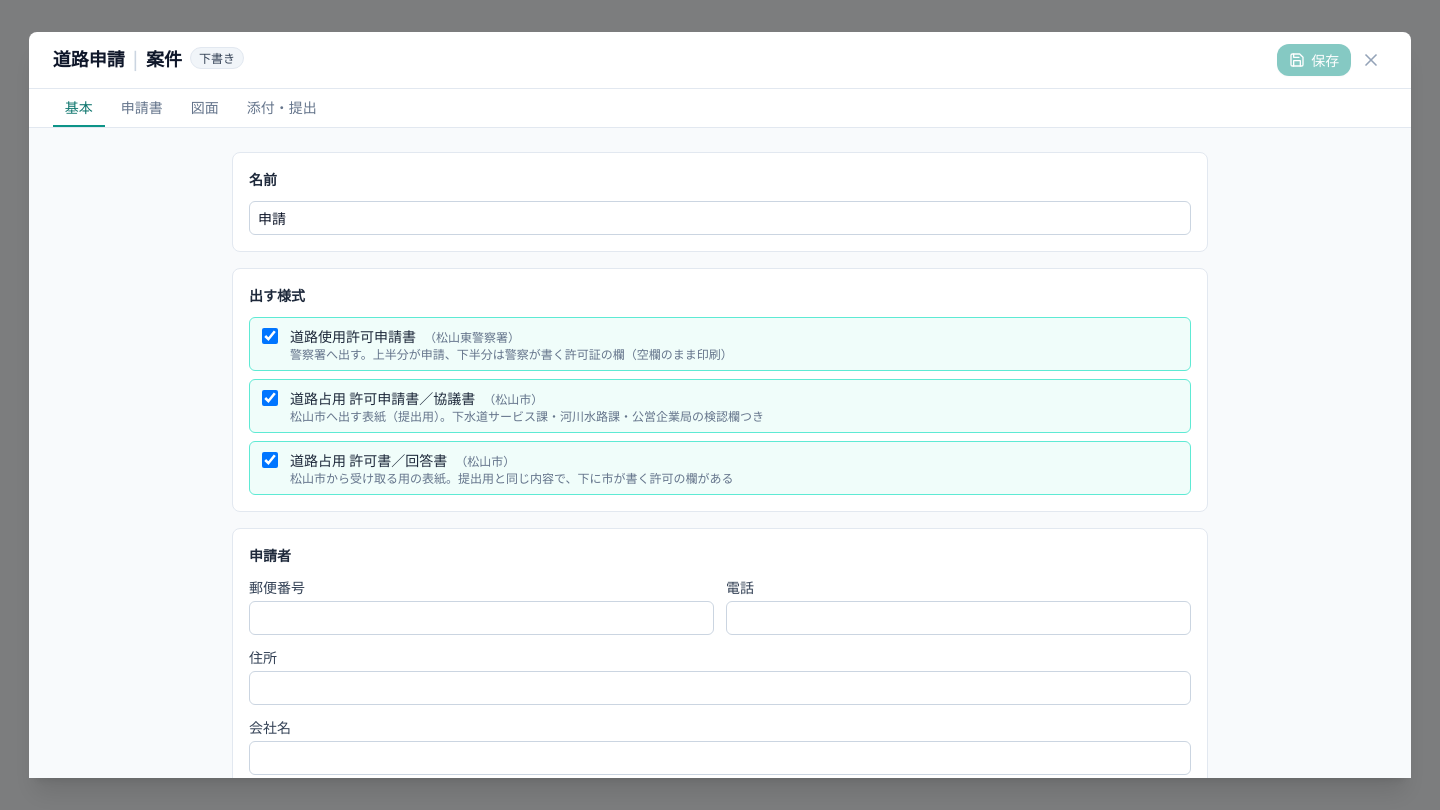
Test: 消す › 確認して DELETE し、戻った一覧にする
Click the button "添付・提出".
click(282, 108)  # box [235,89,329,127]
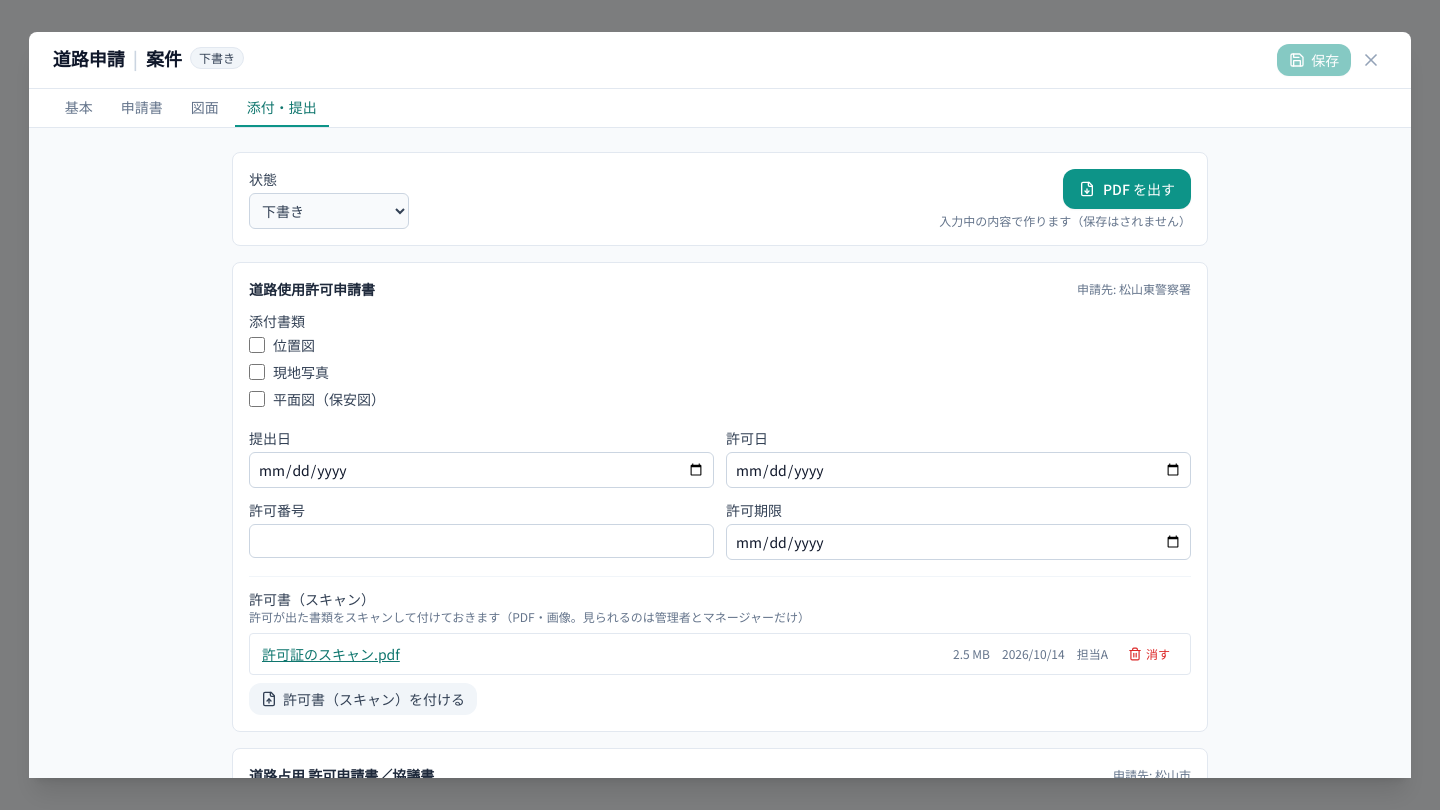
Click the button "消す".
click(1149, 654)  # box [1120,642,1178,666]
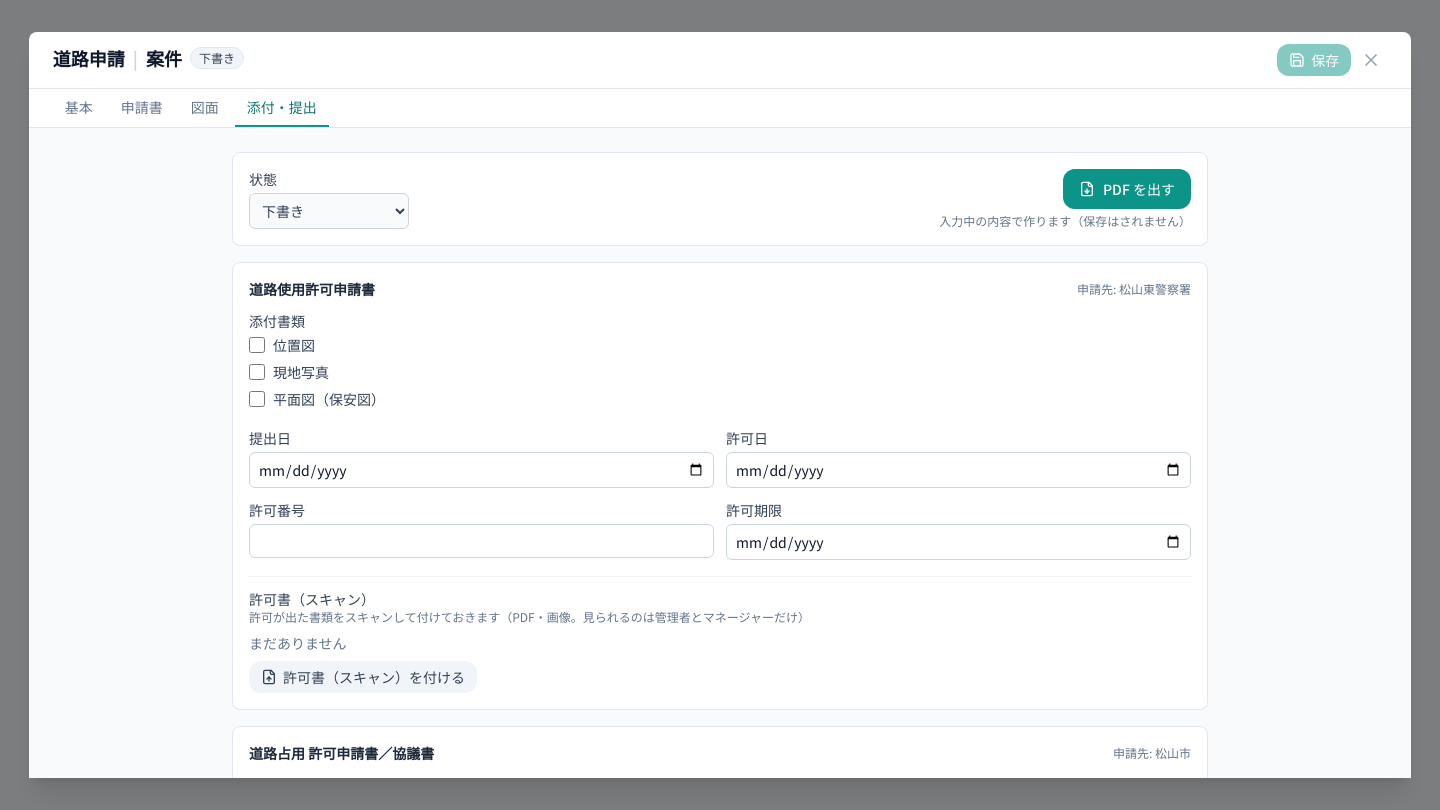
Now the link "許可証のスキャン.pdf" is gone
